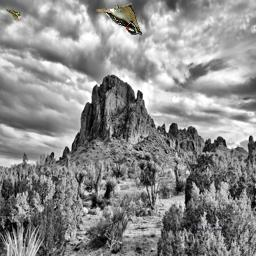Cuckoo: (7, 9, 22, 21)
Woodpecker: (96, 4, 142, 37)
